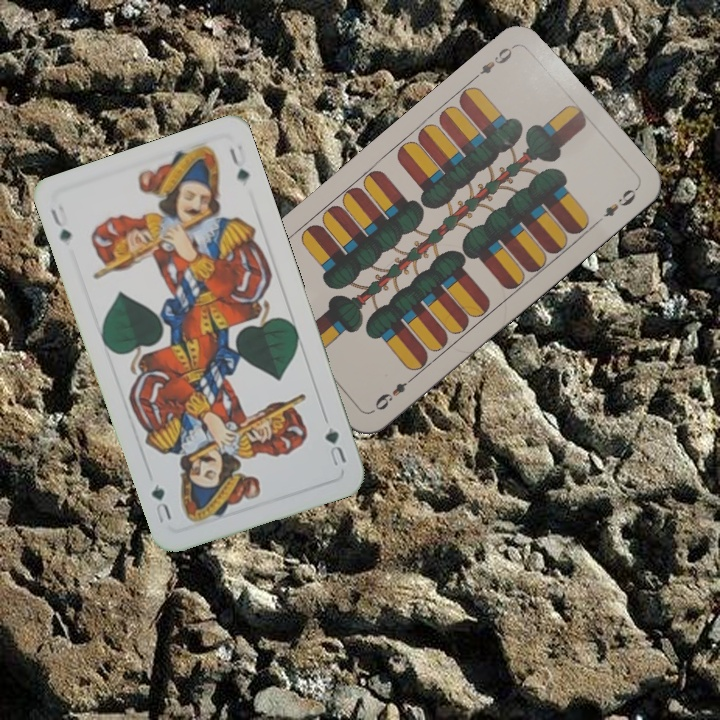E9: (370, 371, 418, 414), (469, 41, 518, 83)
GU: (320, 423, 349, 469), (46, 202, 75, 245)
